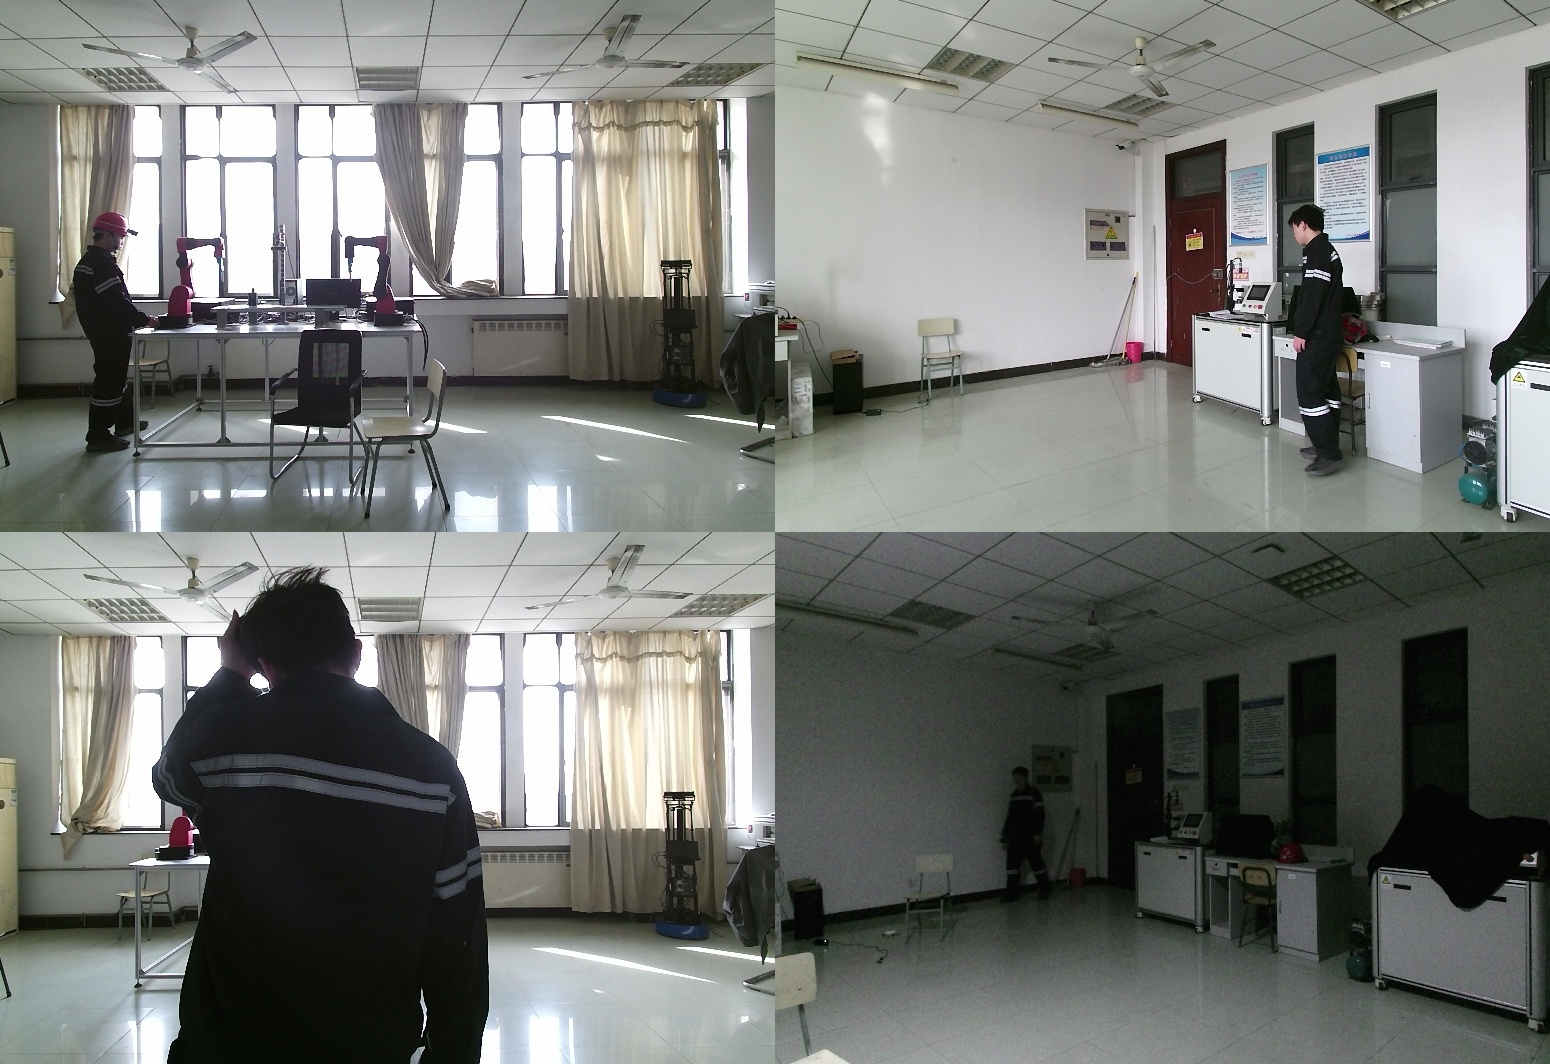person: (153, 576, 491, 1064), (1295, 211, 1384, 475), (71, 213, 161, 454), (1001, 769, 1052, 906)
